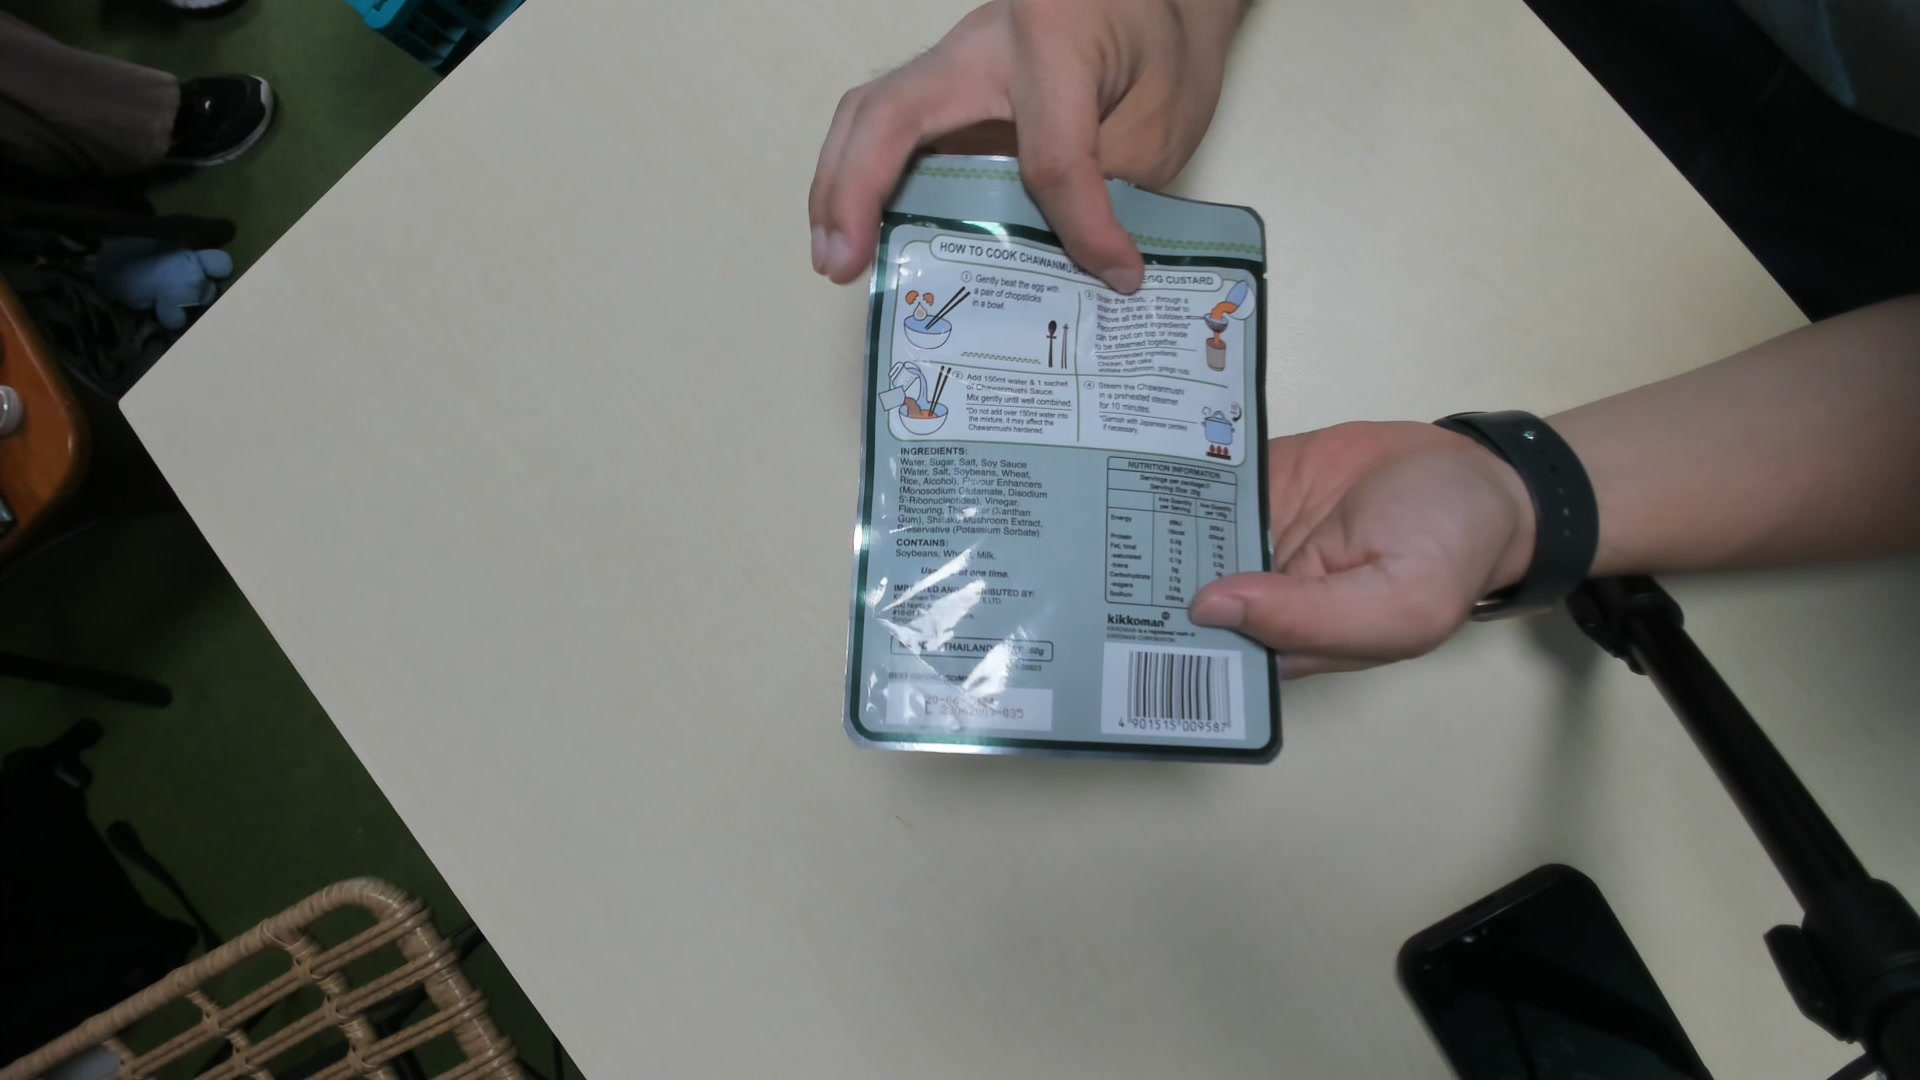OtherSauceDressing_0-99g_NonHalal_NonHealthy: (848, 146, 1288, 771)
